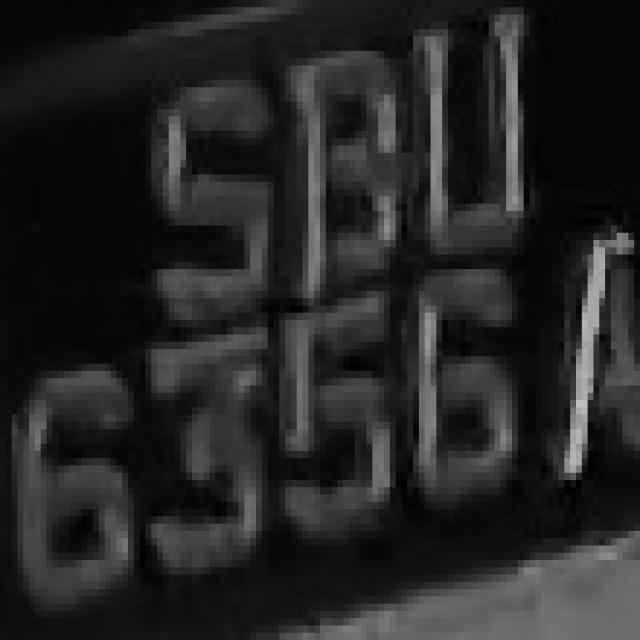3: (128, 298, 268, 604)
5: (244, 284, 384, 560)
6: (17, 320, 152, 625), (396, 226, 535, 509)
A: (541, 211, 640, 465)
B: (274, 36, 402, 284)
S: (122, 73, 268, 305)
U: (407, 8, 553, 248)
